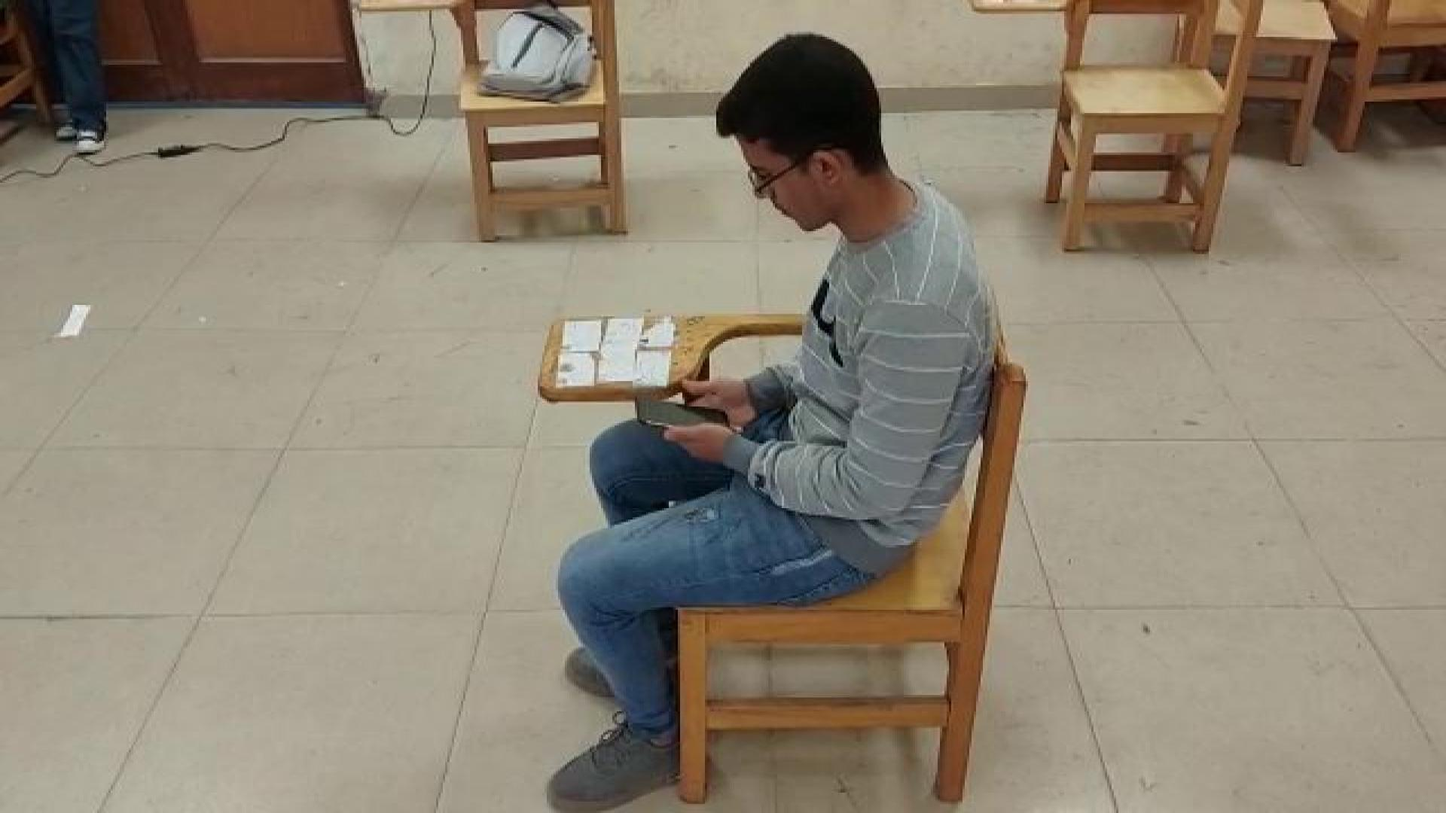phone: (630, 390, 737, 432)
